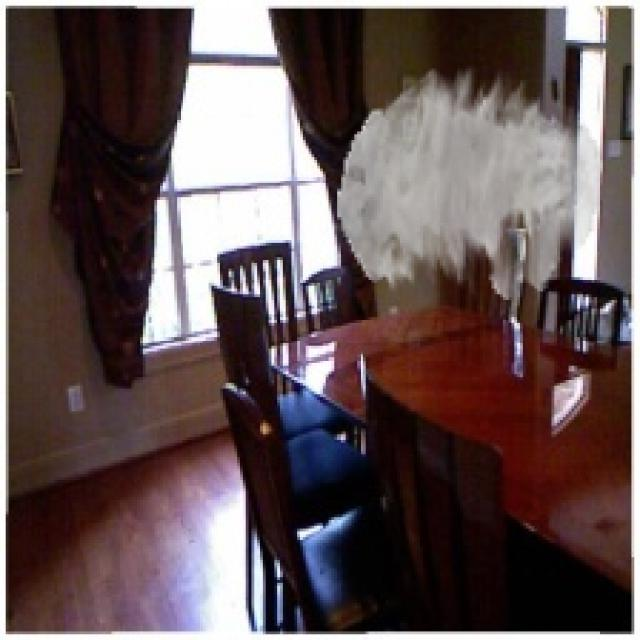smoke: (337, 66, 603, 300)
